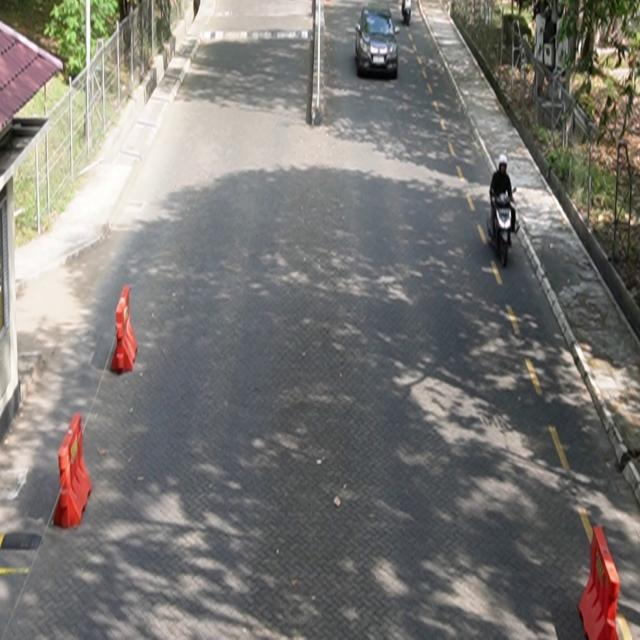car: (355, 4, 401, 80)
